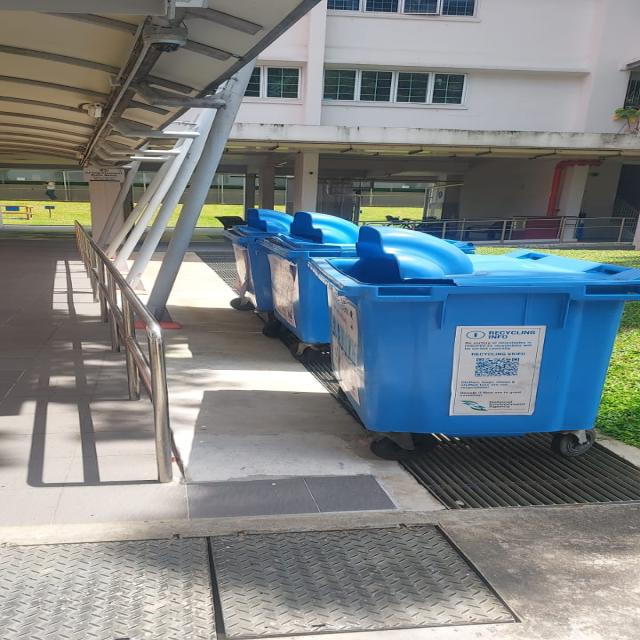bin_empty: (296, 232, 639, 434), (223, 217, 357, 330)
